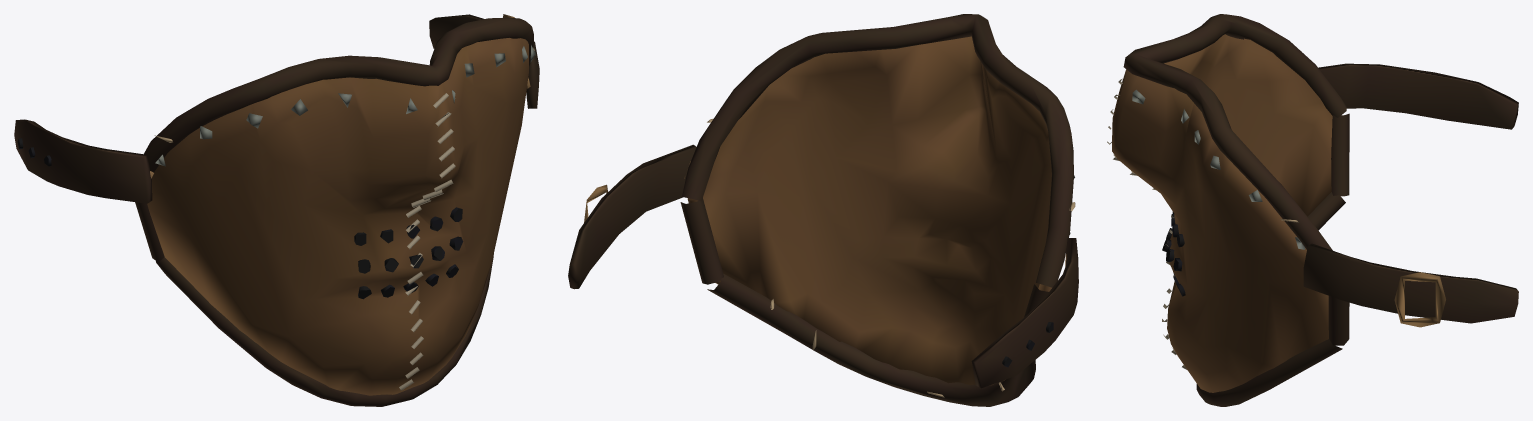
3 views of the same model, side by side, from view 1: azimuth 30°, elevation 25°; view 2: azimuth 150°, elevation 25°; view 3: azimuth 270°, elevation 25° (orthographic). The views are drawn at different scales.
Visible parts, largest first — view 1: tanned leather, aged alloy edge; view 2: tanned leather; view 3: tanned leather, aged alloy edge.
Boxes of the visible parts, x1=… form: tanned leather: x1=14, y1=14, x2=539, y2=406; aged alloy edge: x1=150, y1=14, x2=535, y2=178; tanned leather: x1=568, y1=14, x2=1078, y2=406; tanned leather: x1=1107, y1=14, x2=1518, y2=406; aged alloy edge: x1=1132, y1=89, x2=1445, y2=327.
Bounding box in the file's own units: 0.1757 × 0.1307 × 0.1445.
